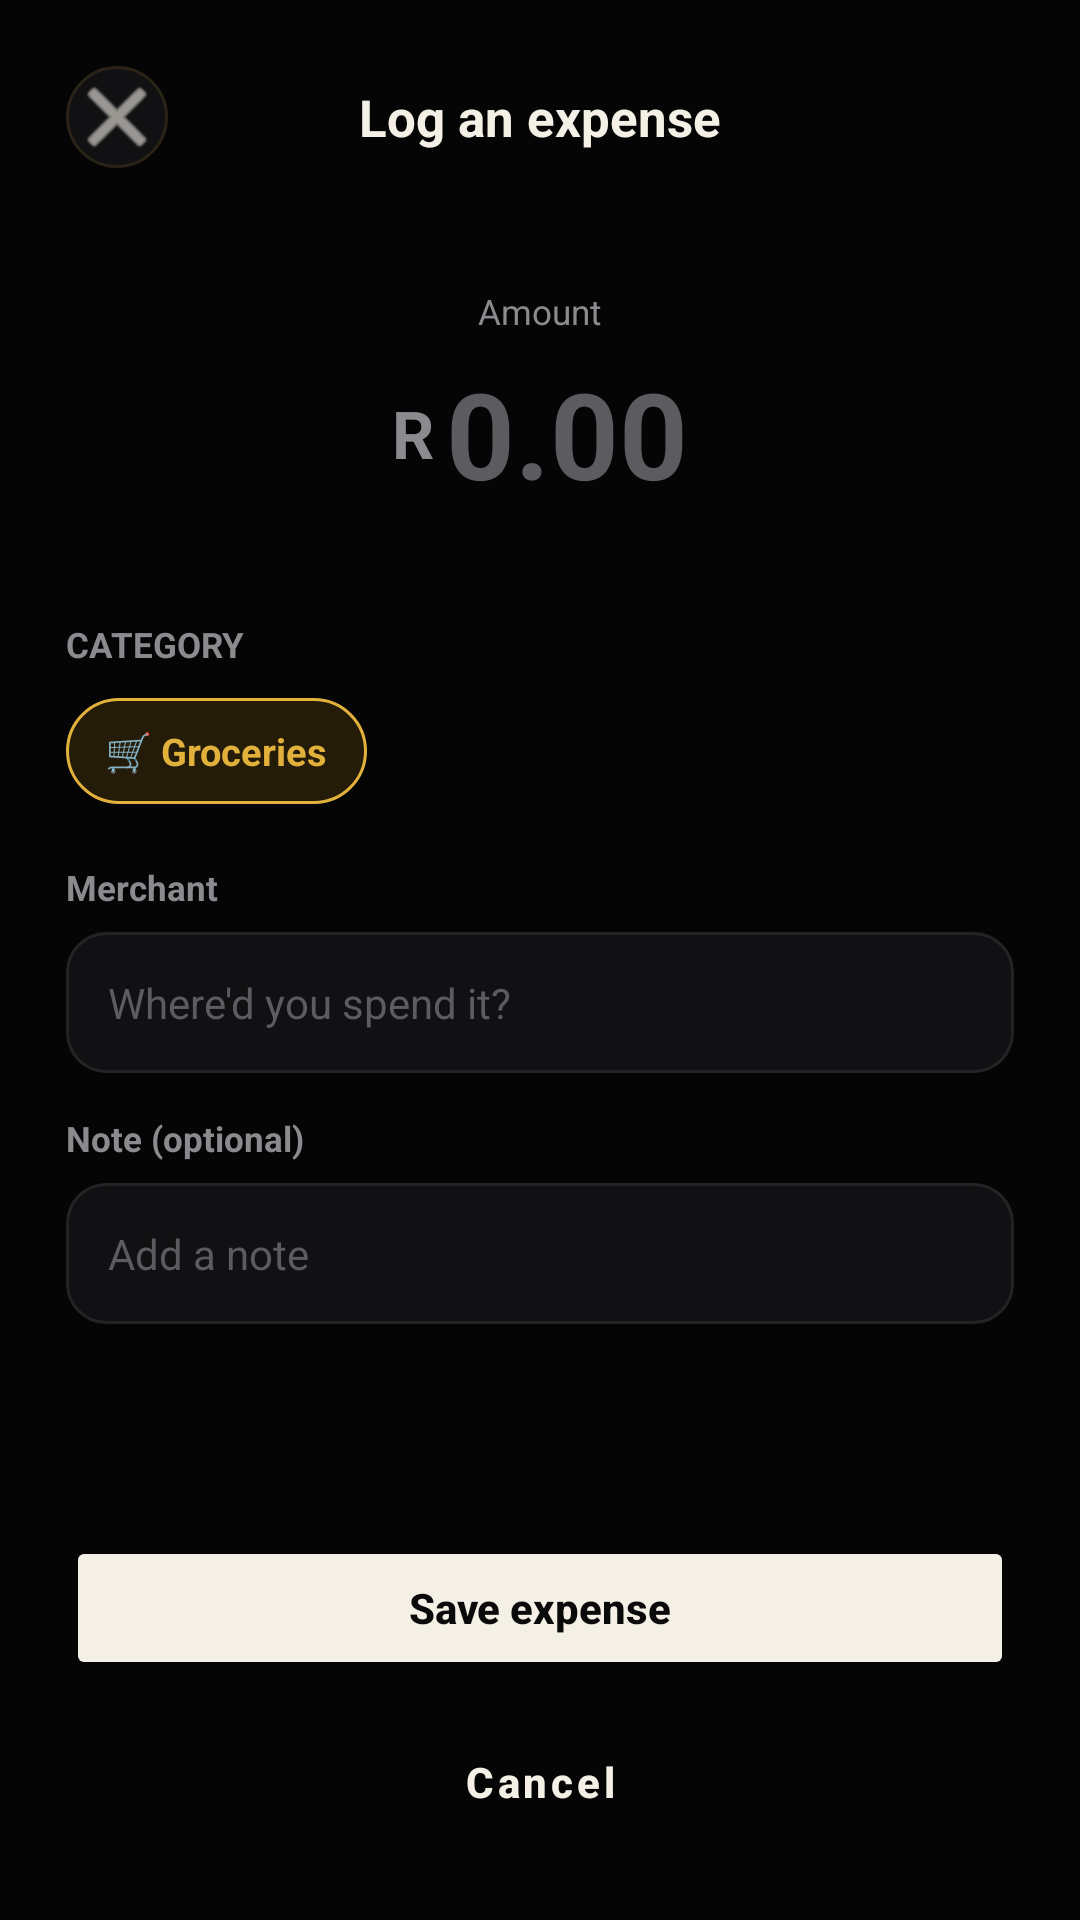

Where to tap for icons on this 1080w x 1920h app screen, as (x,y):
close clear cancel: (117,117)
